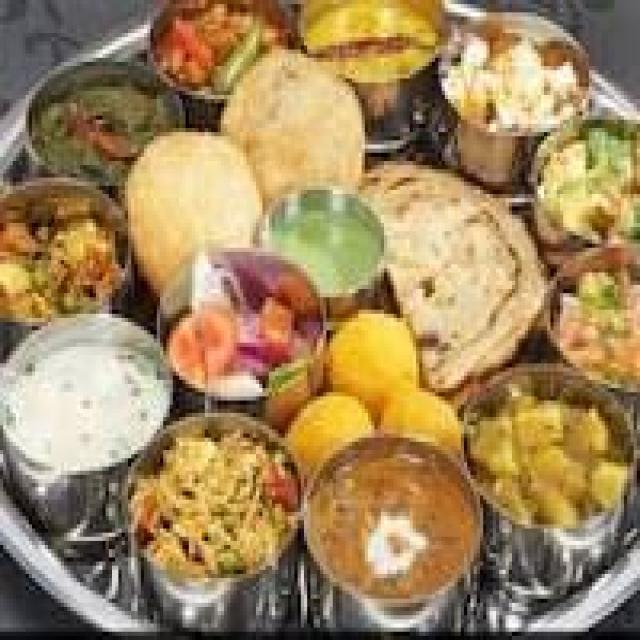curd: (0, 309, 171, 493)
papad: (387, 176, 552, 392), (138, 397, 289, 604)
rice: (130, 403, 293, 602)
sweet: (160, 292, 251, 401)
veg-fry: (137, 0, 291, 102)
